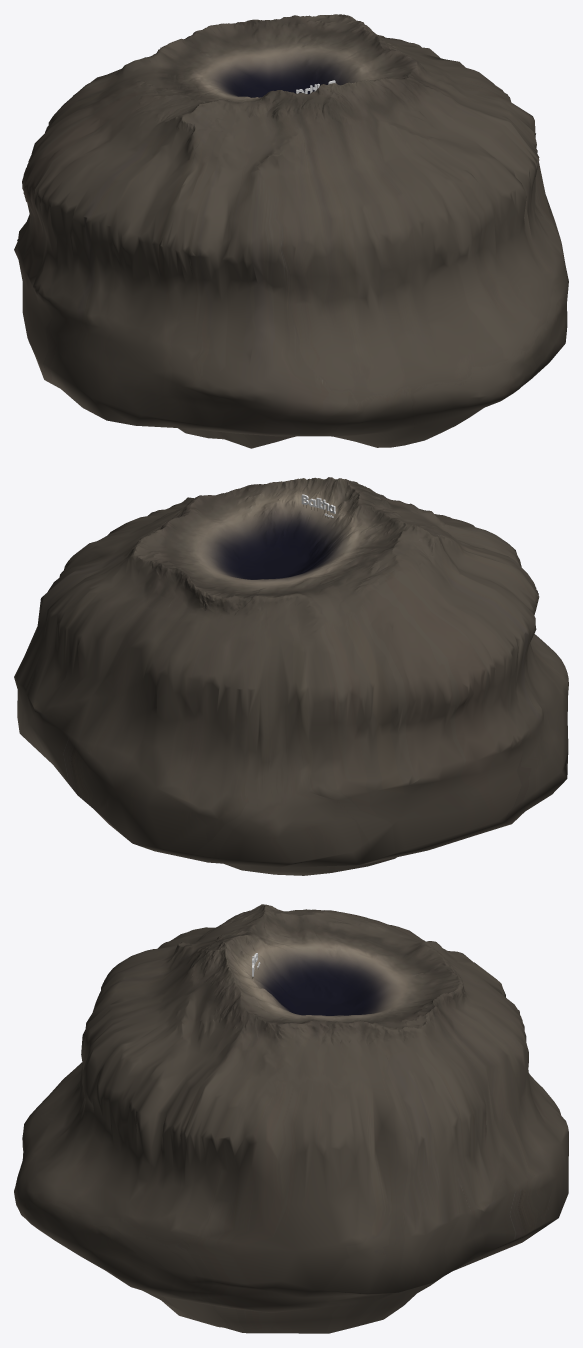
File: rockring.glb
3 renders of one model, top to bottom at view 1: azimuth 30°, elevation 25°; view 2: azimuth 150°, elevation 25°; view 3: azimuth 270°, elevation 25°, orthographic. The views are drawn at different scales.
Parts seen in each view (by area): view 1: Original_low; view 2: Original_low; view 3: Original_low.
Boxes of the visible parts, x1,y1,x2,y2 form: Original_low: (14, 14, 568, 448); Original_low: (14, 477, 568, 875); Original_low: (14, 904, 568, 1333).
Bounding box in the file's own units: 1058 × 715 × 1085.
2 materials, 1 textured.
